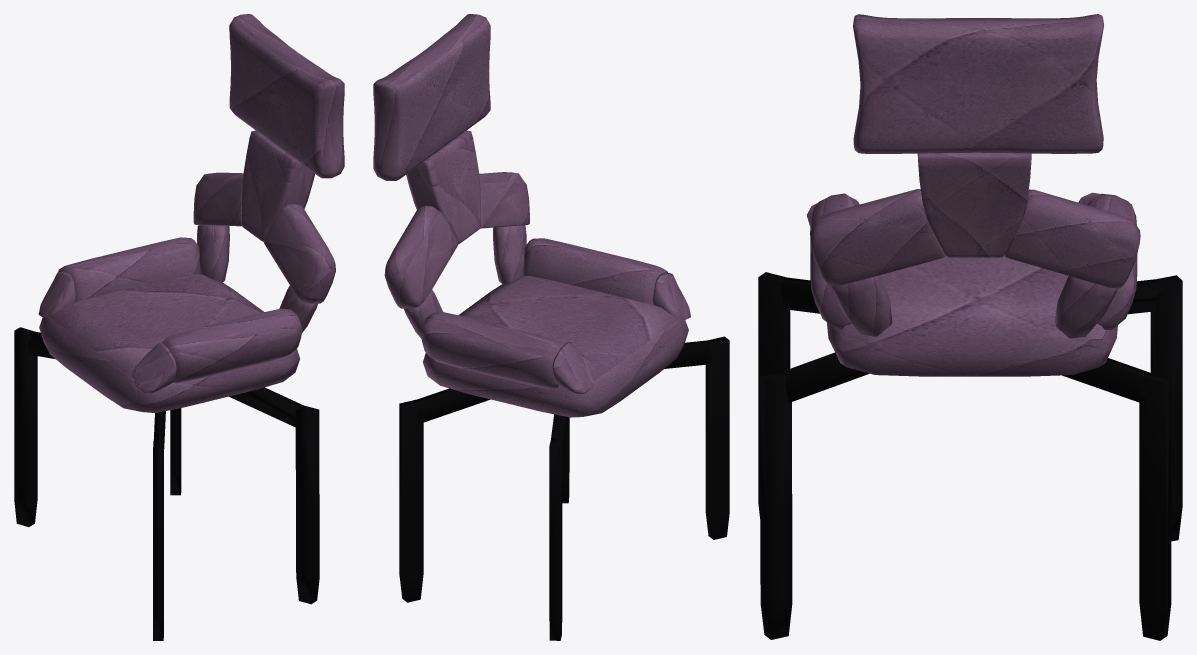
File: chair.dae
3 renders of one model, left to right at view 1: azimuth 30°, elevation 25°; view 2: azimuth 150°, elevation 25°; view 3: azimuth 270°, elevation 25°, orthographic. The views are drawn at different scales.
Visible parts, largest first — view 1: Cube.008, Cube.006; view 2: Cube.008, Cube.006; view 3: Cube.008, Cube.006.
Part boxes in pixels (x1,y1,x2,y2): Cube.008: (38,14,344,412); Cube.006: (14,327,319,640); Cube.008: (373,14,690,417); Cube.006: (399,336,729,640); Cube.008: (807,14,1140,376); Cube.006: (758,272,1182,640).
Bounding box in the file's own units: 2.48 × 2.97 × 5.05.
